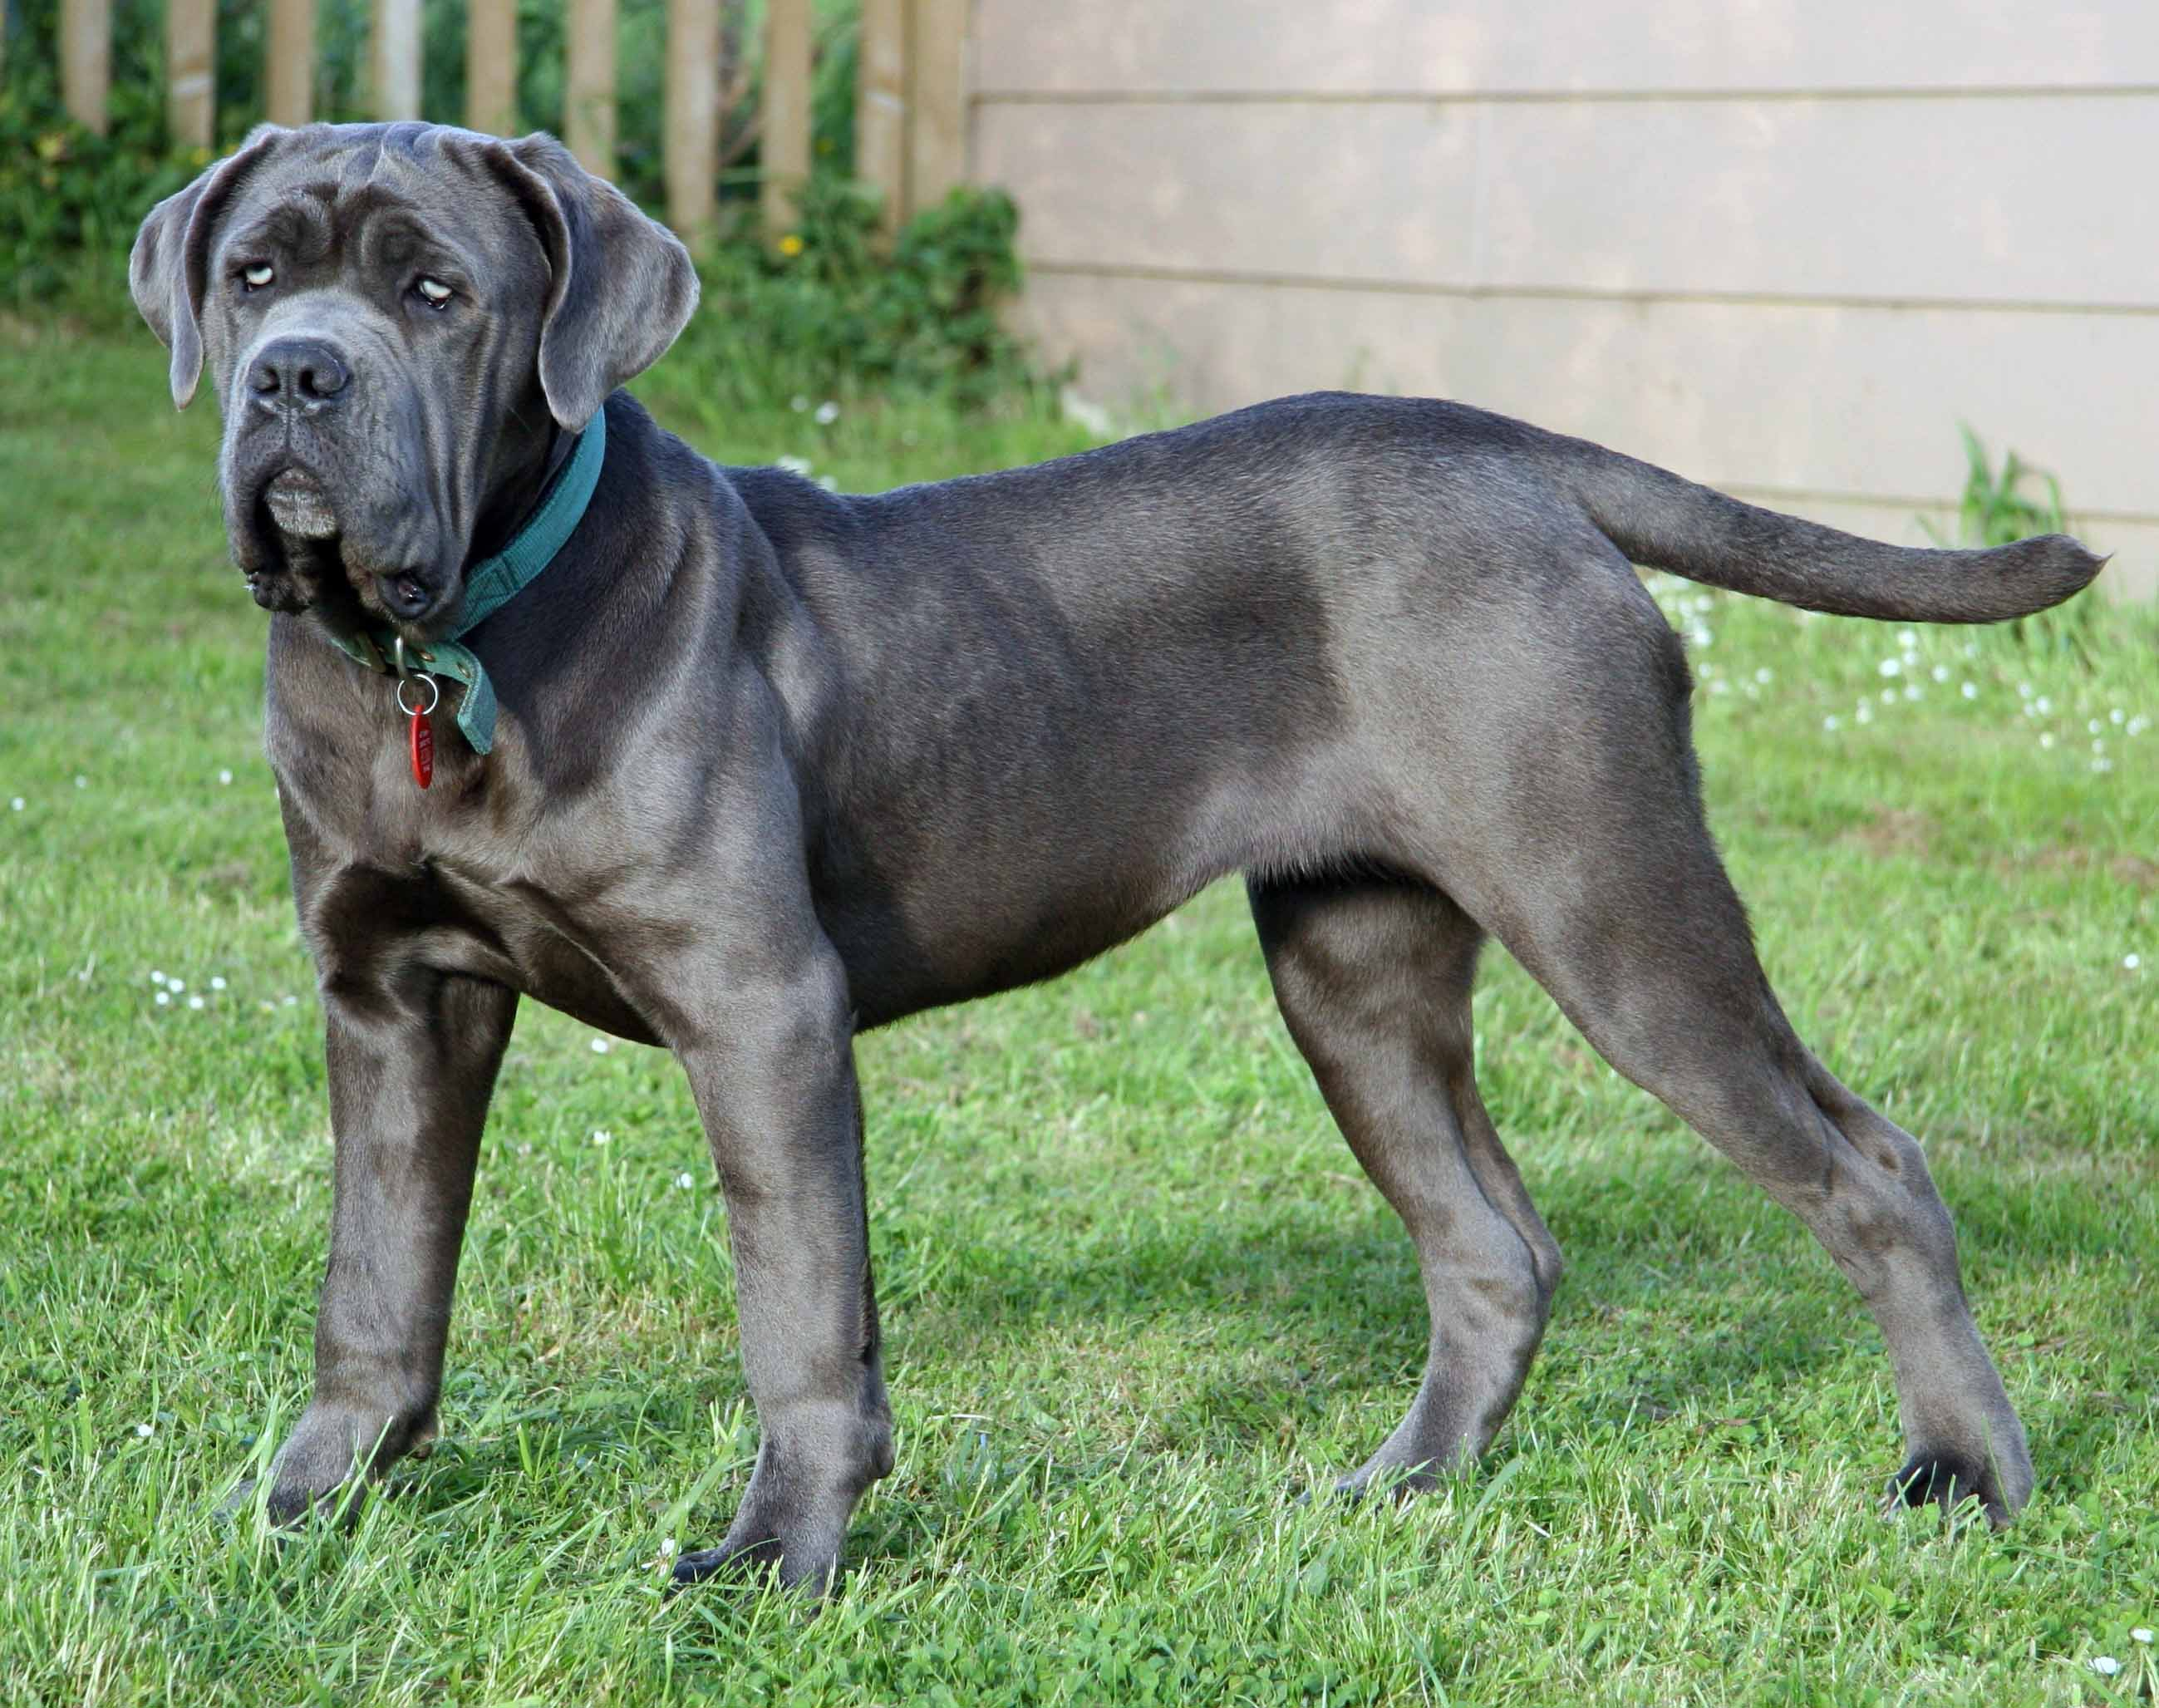neapolitan_mastiff: (119, 114, 2094, 1603)
